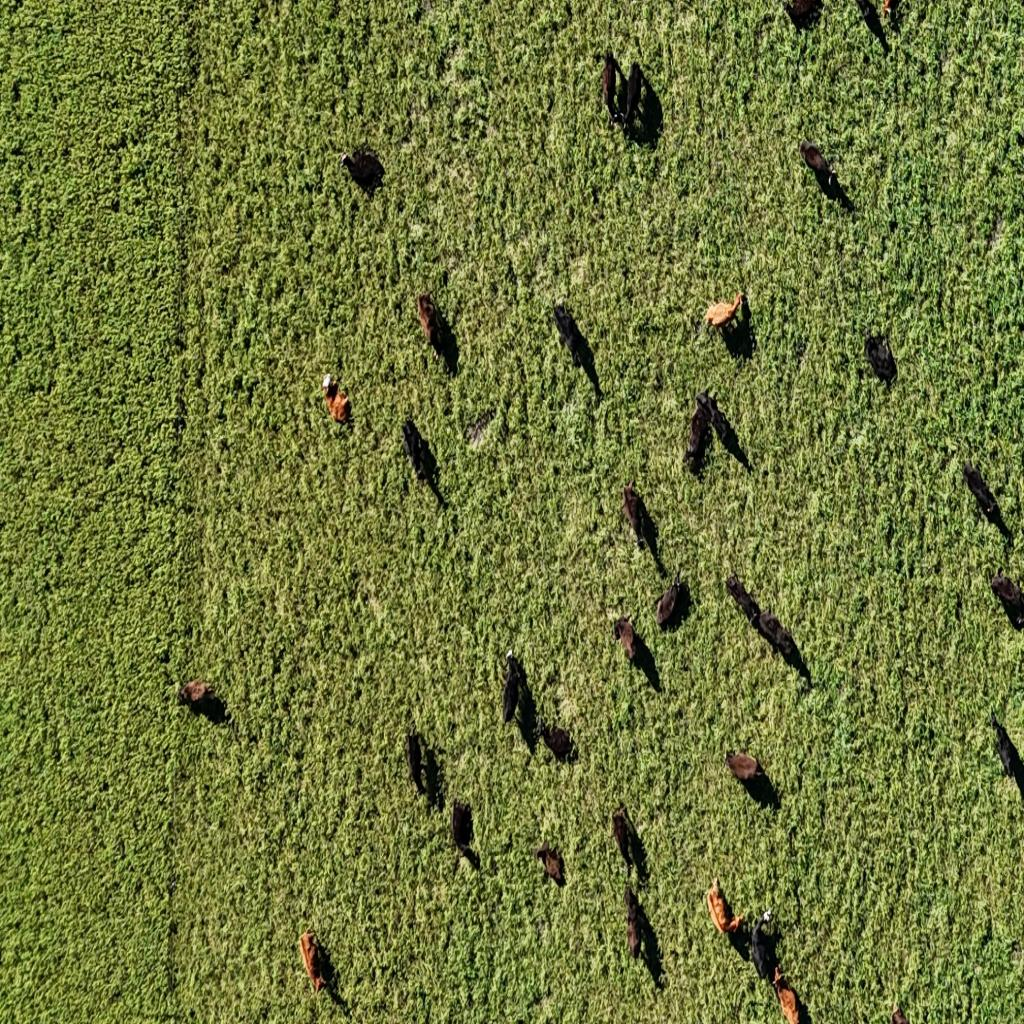cow: (552, 300, 588, 374), (799, 140, 841, 198), (702, 289, 746, 344), (774, 624, 812, 685), (684, 396, 714, 471), (963, 463, 1001, 521), (698, 390, 734, 450), (757, 610, 797, 664), (339, 146, 383, 194), (749, 910, 778, 980), (725, 575, 761, 629), (864, 329, 898, 386), (990, 574, 1024, 630), (989, 714, 1017, 781), (418, 294, 446, 360), (401, 418, 429, 484), (177, 677, 221, 719), (299, 930, 327, 995), (707, 878, 738, 936), (656, 572, 686, 631), (320, 371, 352, 426), (772, 963, 801, 1023), (622, 484, 647, 552), (538, 715, 574, 762), (500, 653, 524, 723), (602, 52, 623, 128), (450, 798, 474, 862), (405, 729, 426, 795), (623, 60, 643, 128), (535, 840, 564, 886), (624, 886, 642, 960), (611, 808, 632, 870), (421, 743, 440, 808), (725, 750, 760, 785), (851, 1, 884, 36), (612, 616, 636, 663), (784, 0, 821, 30), (890, 1001, 910, 1024), (537, 714, 550, 739), (882, 0, 893, 20), (625, 481, 637, 499), (505, 649, 515, 669), (989, 711, 1000, 728), (674, 567, 682, 589)
